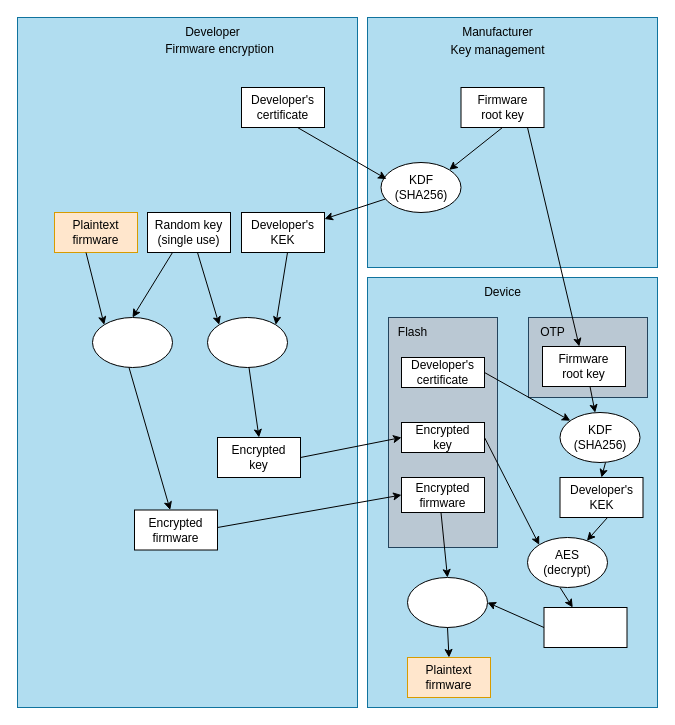
This 675x725 diagram has some shape labels left out. The shapes that lost their labels are listed below. From the top down, each one's centre as x and y in pixels, then its label:
the point at 132,342: AES CTR (encrypt)
the point at 247,342: AES (encrypt)
the point at 447,602: AES CTR (decrypt)
the point at 585,627: Random key
